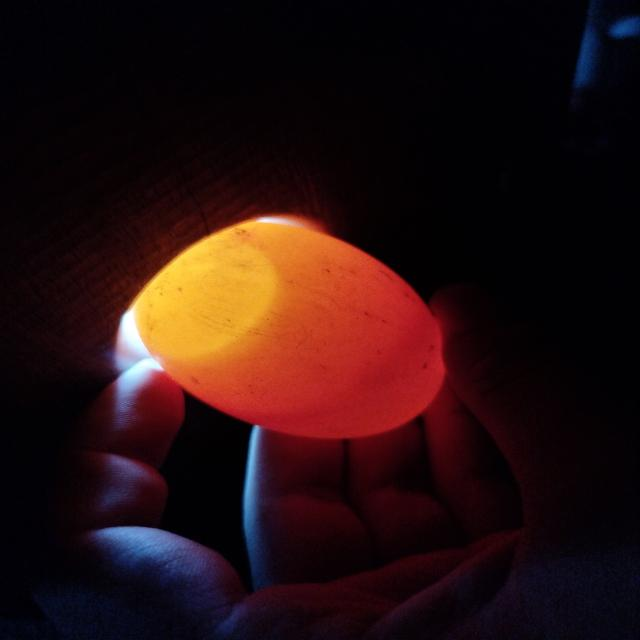Camara de Ar: (133, 233, 277, 370)
